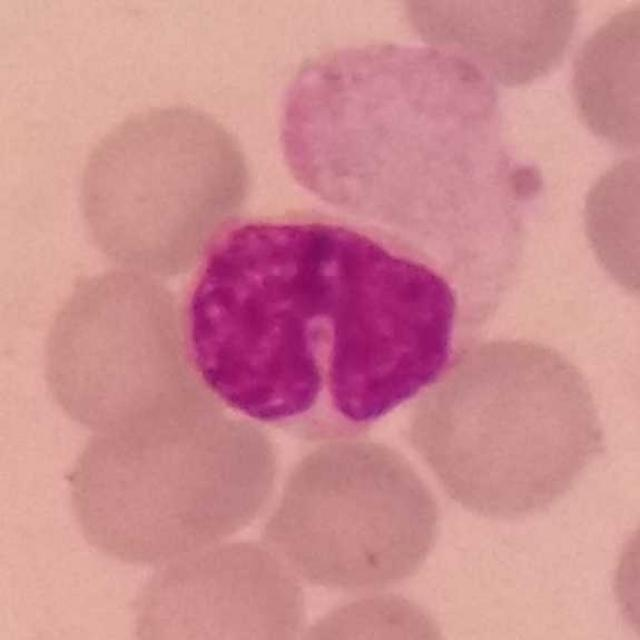Monocyte: (192, 30, 519, 436)
Platelets: (499, 151, 555, 208)
RBC: (55, 388, 282, 566), (404, 331, 613, 524), (68, 94, 258, 274), (262, 430, 448, 596), (32, 262, 202, 443), (122, 532, 312, 640), (388, 0, 586, 88), (561, 0, 640, 158), (574, 140, 640, 318), (283, 584, 462, 640), (602, 485, 640, 640)
